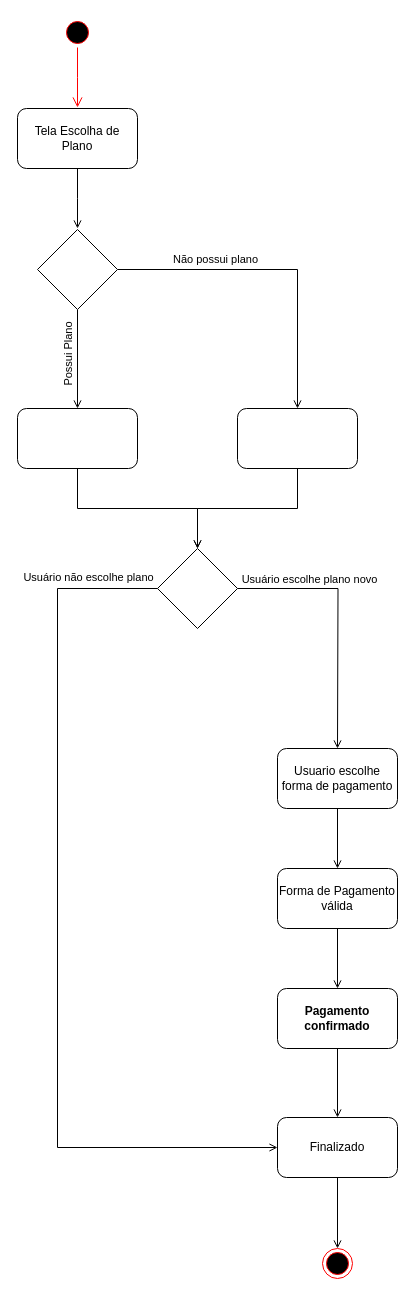
Image size: 415x1296. Some labels were removed from this diagram. Here are the shapes that lost their labels. From the top down, the centre of each, then its label:
At (x=77, y=438): "Oferece Plano diferente para usuário".
At (x=297, y=438): "Usuário escolhe plano".
